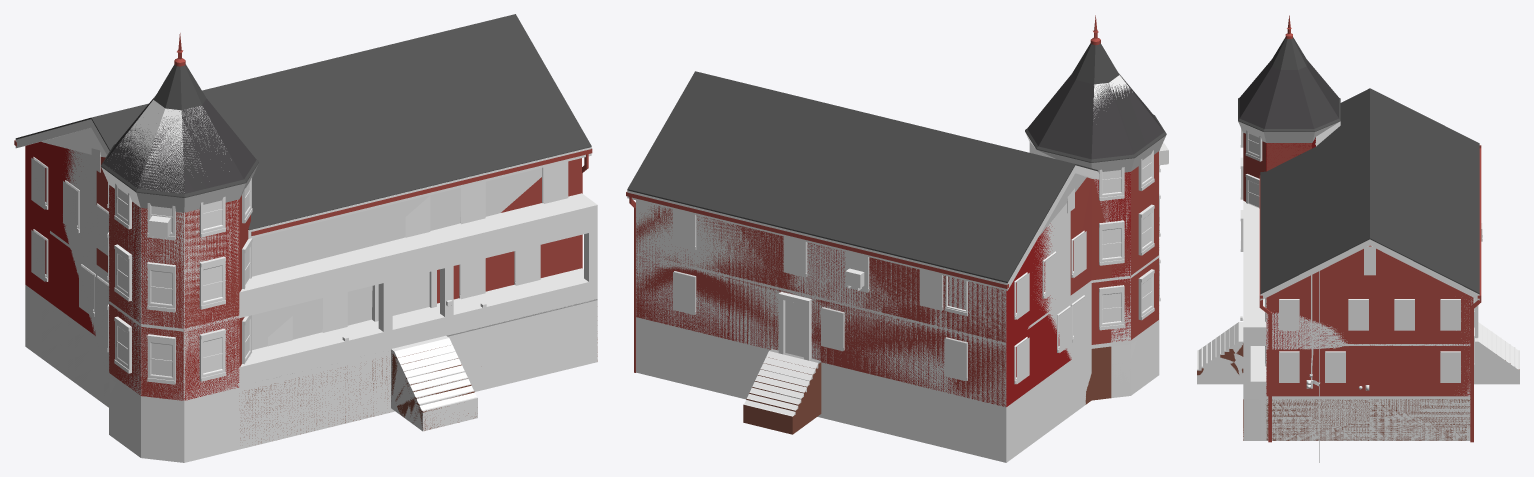
Rendered from eca_bld_ornate_01.dae.
3 renders of one model, left to right at view 1: azimuth 30°, elevation 25°; view 2: azimuth 150°, elevation 25°; view 3: azimuth 270°, elevation 25°, orthographic. The views are drawn at different scales.
Parts seen in each view (by area): view 1: eca_bld_ornate_01_a800, Colmesh-1, eca_bld_ornate_01_a100, eca_bld_ornate_01_a20; view 2: eca_bld_ornate_01_a800, Colmesh-1, eca_bld_ornate_01_a100, eca_bld_ornate_01_a20; view 3: eca_bld_ornate_01_a800, eca_bld_ornate_01_a100, Colmesh-1, eca_bld_ornate_01_a20.
Part boxes in pixels (x1=…): eca_bld_ornate_01_a800: x1=14, y1=14, x2=597, y2=462; Colmesh-1: x1=15, y1=94, x2=597, y2=462; eca_bld_ornate_01_a100: x1=31, y1=58, x2=597, y2=442; eca_bld_ornate_01_a20: x1=25, y1=98, x2=256, y2=400; eca_bld_ornate_01_a800: x1=626, y1=15, x2=1168, y2=451; Colmesh-1: x1=627, y1=71, x2=1165, y2=462; eca_bld_ornate_01_a100: x1=636, y1=37, x2=1158, y2=434; eca_bld_ornate_01_a20: x1=636, y1=74, x2=1163, y2=406; eca_bld_ornate_01_a800: x1=1197, y1=15, x2=1519, y2=462; eca_bld_ornate_01_a100: x1=1197, y1=33, x2=1519, y2=440; Colmesh-1: x1=1198, y1=121, x2=1518, y2=440; eca_bld_ornate_01_a20: x1=1239, y1=59, x2=1472, y2=396.
Size of the model in its own units: 16.44 by 14 by 14.95.
